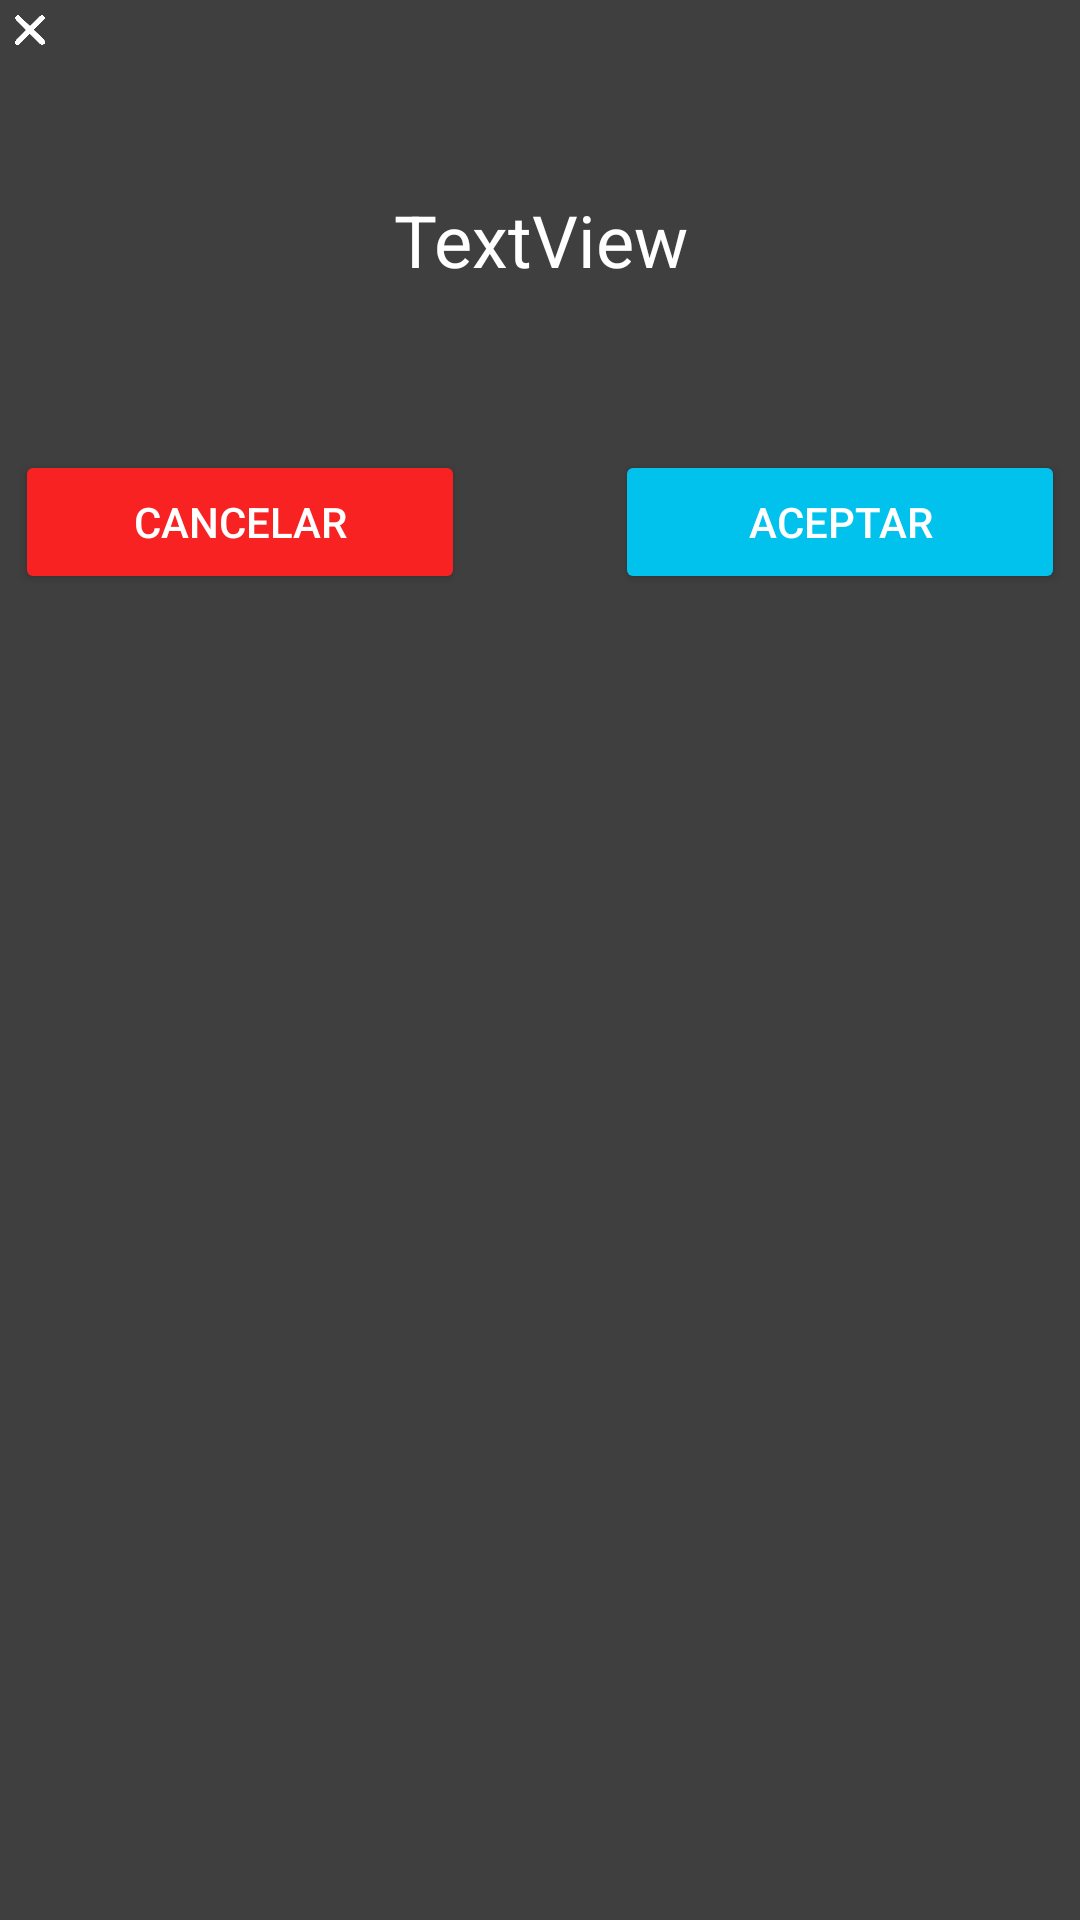

Icon bounding boxes for this 1080×1920 phone screenshot, format detection(x1, y1, x2, y2):
close: detection(15, 15, 45, 45)
